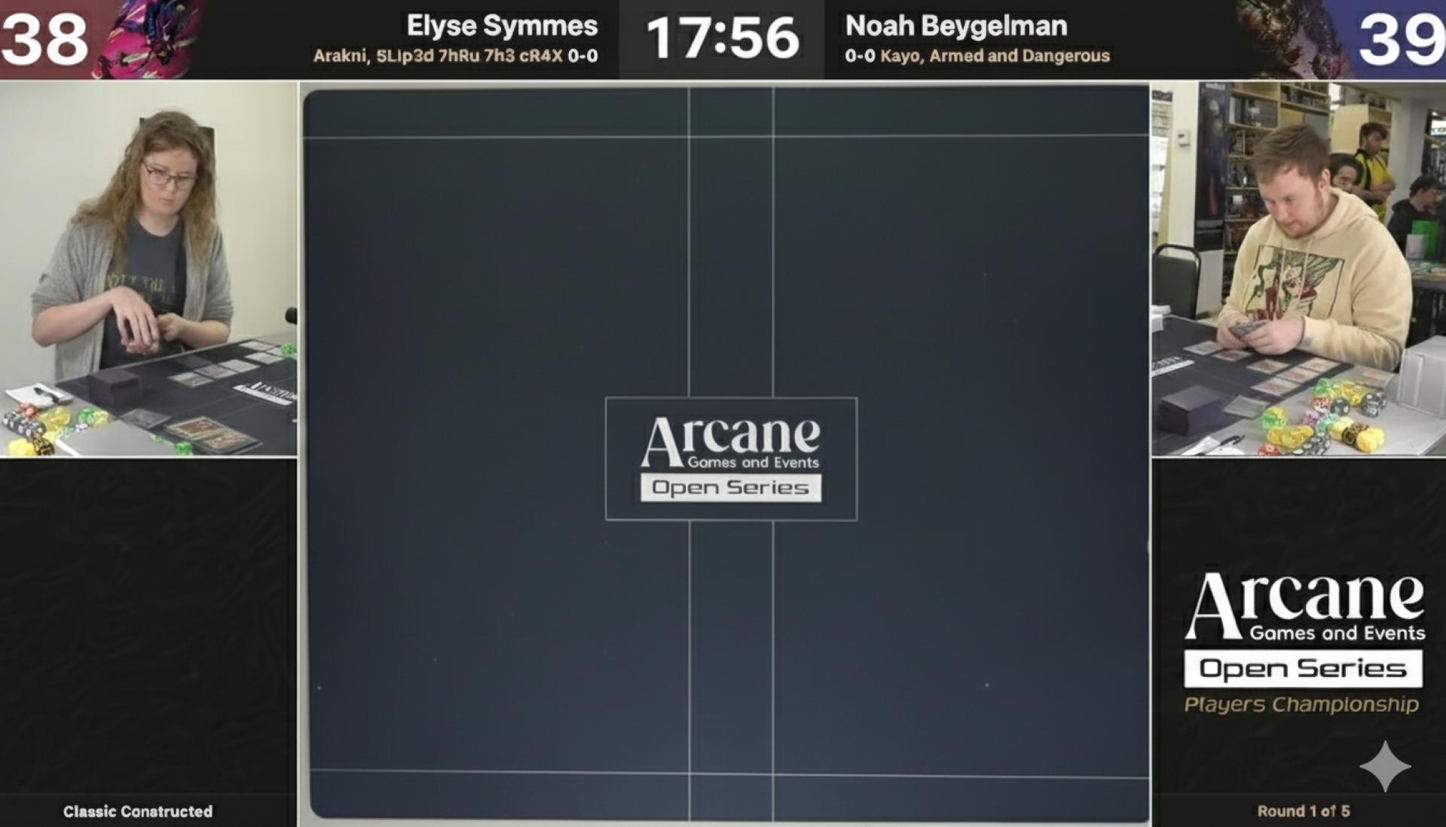Arms: (451, 193, 556, 269)
Arms 2: (894, 614, 1000, 690)
Banish: (326, 729, 432, 804)
Banish 2: (1026, 117, 1131, 193)
Chest: (451, 104, 557, 180)
Chest 2: (893, 716, 998, 792)
Combat Chain 1: (579, 196, 740, 720)
Combat Chain 2: (718, 188, 880, 710)
Graveyard: (610, 735, 716, 811)
Graveyard 2: (752, 106, 857, 182)
Head: (572, 102, 677, 178)
Head 2: (774, 718, 879, 794)
Hero: (455, 395, 561, 471)
Hero 2: (887, 392, 993, 468)
Legs: (331, 106, 437, 181)
Legs 2: (1010, 718, 1116, 794)
Pitch: (468, 629, 574, 705)
Pitch 2: (898, 203, 1004, 279)
Weapon: (456, 308, 561, 384)
Weapon 2: (899, 485, 1004, 561)
Weapon or Off-Hand: (461, 487, 567, 563)
Weapon or Off-Hand 2: (899, 296, 1004, 372)
Window: (299, 81, 1150, 825)
